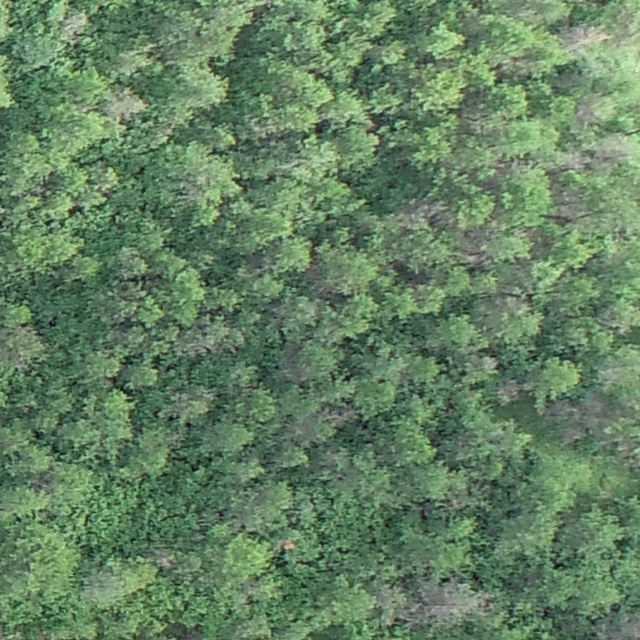unhealthy: (414, 579, 490, 628), (369, 581, 409, 623), (393, 197, 447, 227), (558, 24, 612, 50), (594, 133, 632, 168), (577, 391, 611, 429), (107, 86, 145, 118), (457, 236, 491, 269), (322, 405, 360, 425), (543, 398, 575, 421), (64, 12, 89, 38), (579, 99, 603, 124), (500, 379, 521, 404), (561, 427, 588, 446), (566, 150, 588, 171), (154, 546, 174, 566)
